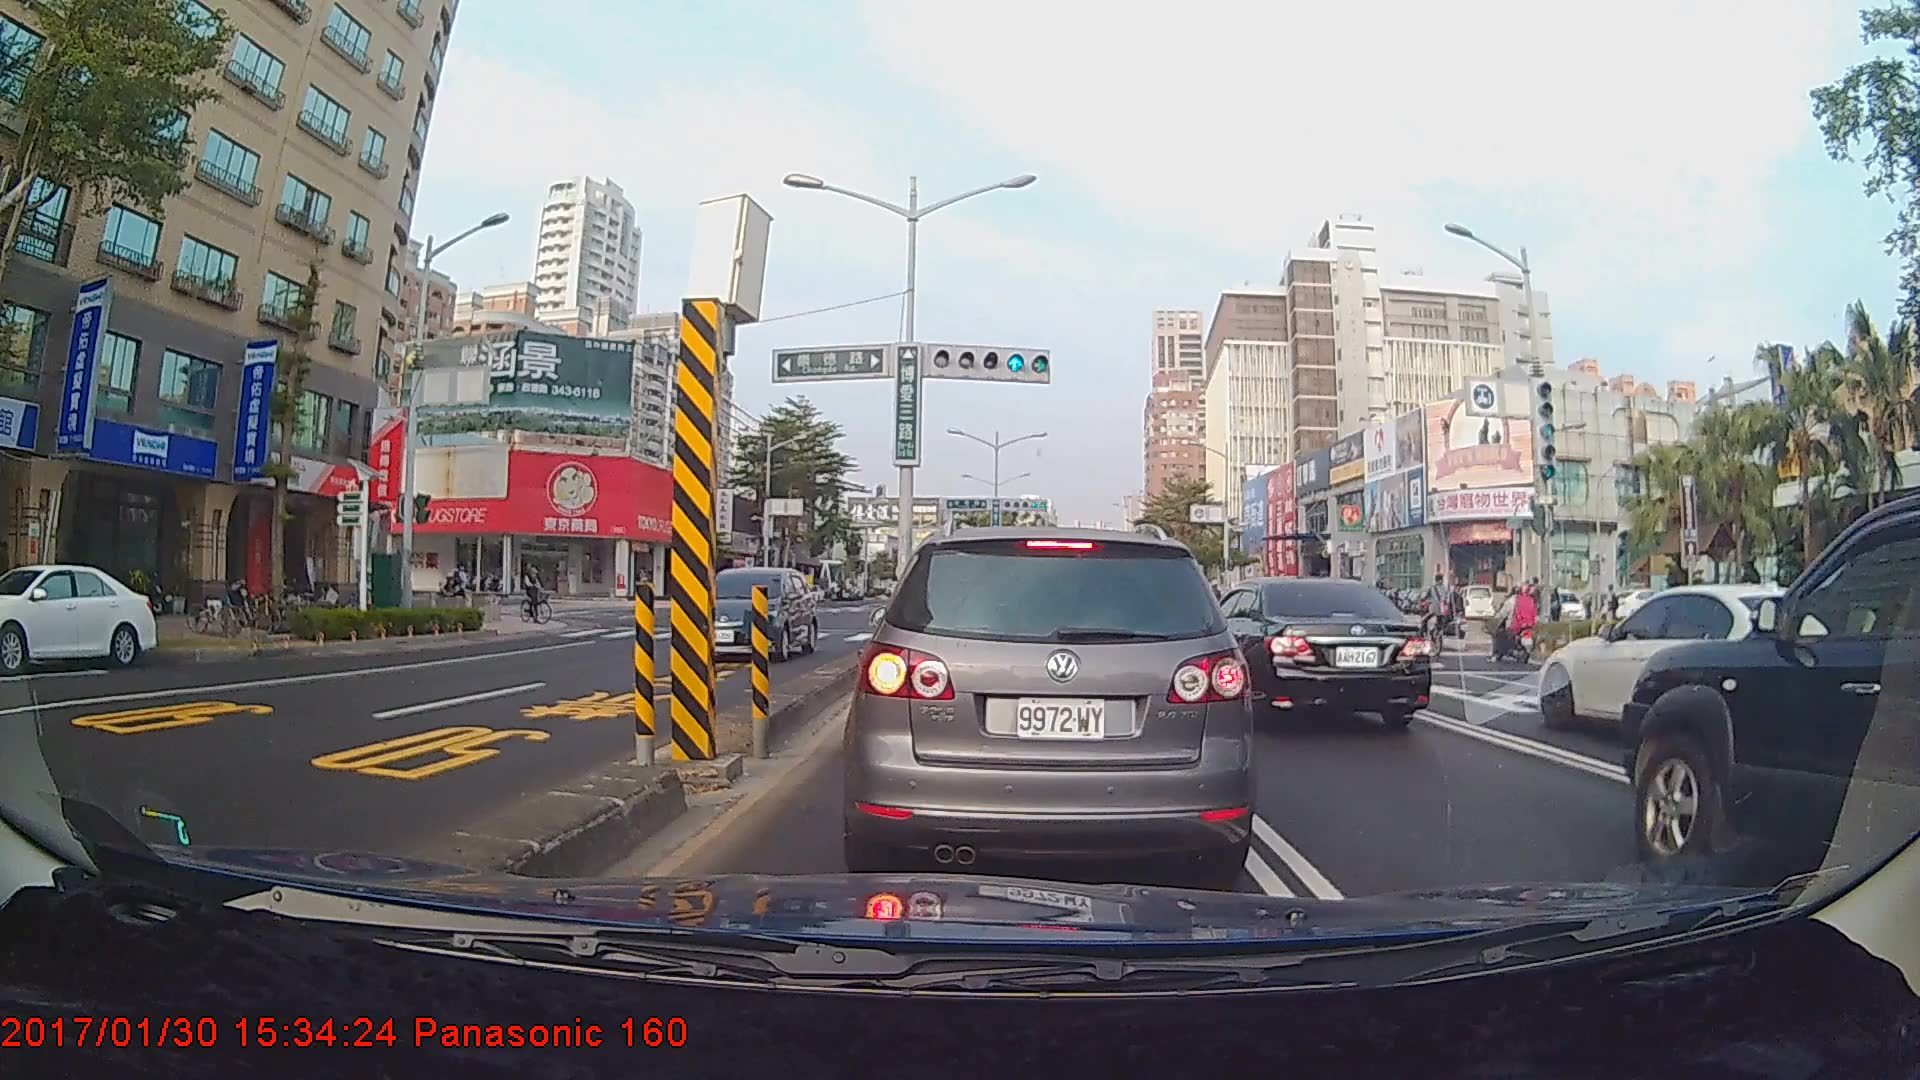pedestrian: (1600, 581, 1621, 640)
rider: (1485, 582, 1548, 668), (1418, 570, 1461, 658), (518, 559, 561, 629), (442, 563, 477, 603)
vehicle: (852, 523, 1247, 883), (1619, 491, 1920, 884), (1535, 580, 1889, 759), (1170, 573, 1435, 731), (0, 561, 157, 671), (684, 563, 818, 664)
